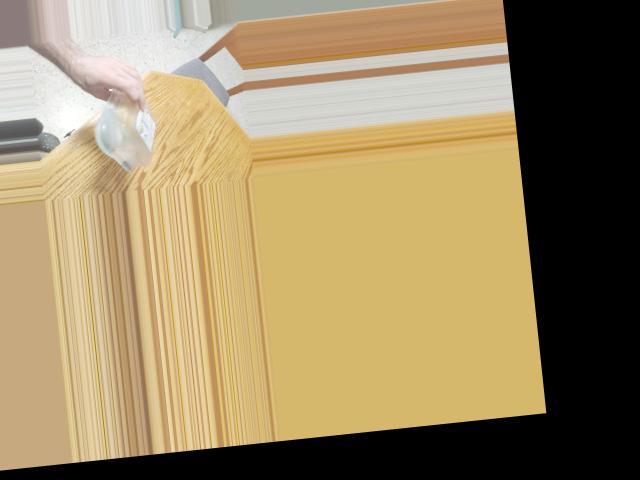cheese: (97, 72, 157, 168)
